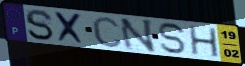C: (91, 15, 125, 49)
H: (187, 25, 221, 59)
N: (118, 17, 157, 54)
S: (24, 8, 56, 42), (157, 21, 189, 55)
X: (53, 10, 87, 46)
